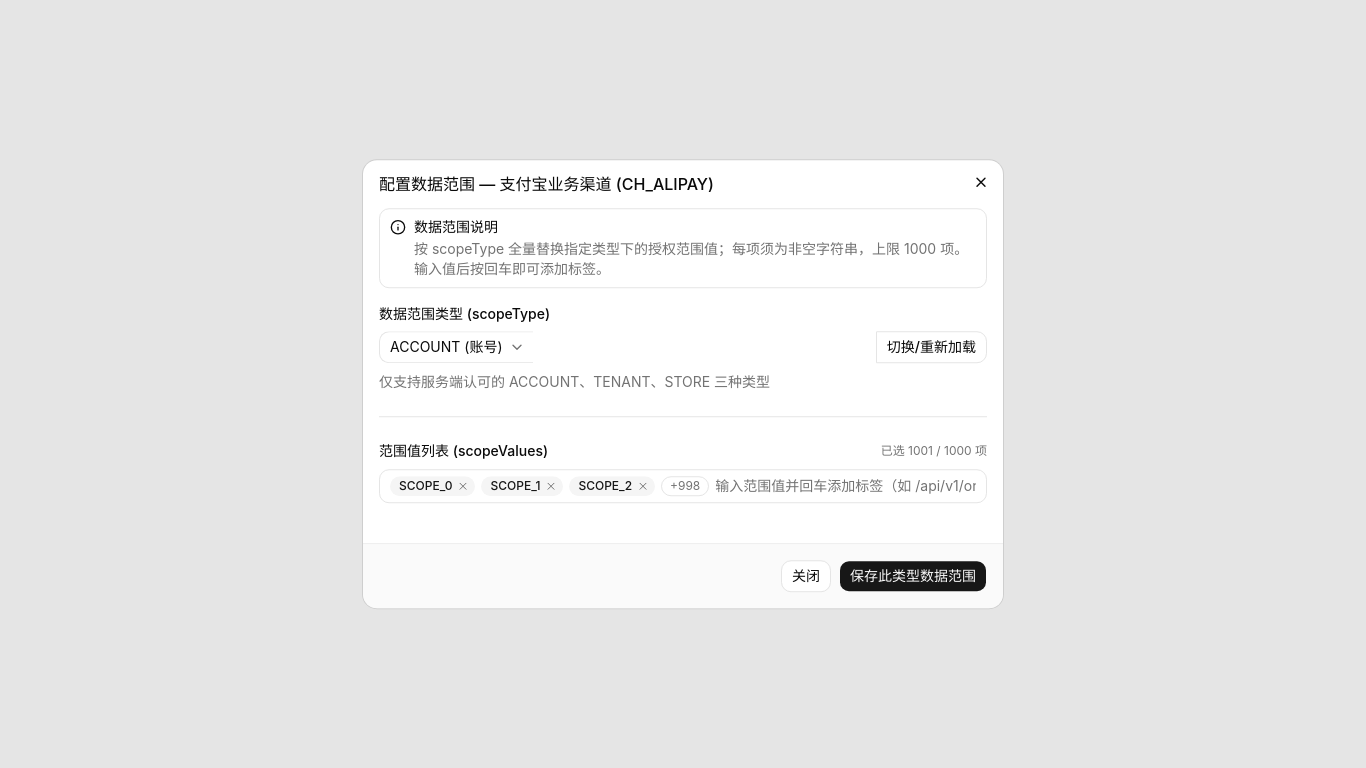
it: DataScopeModal (渠道凭证 数据范围配置弹窗) › 表单校验拦截 - 数据范围项数超过 1000 项时拦截请求并提示
Check: the text "已选 1001 / 1000 项" is shown, box [881,443,987,459]
Click the button "保存此类型数据范围" at point(913, 576), box [839,560,987,592]
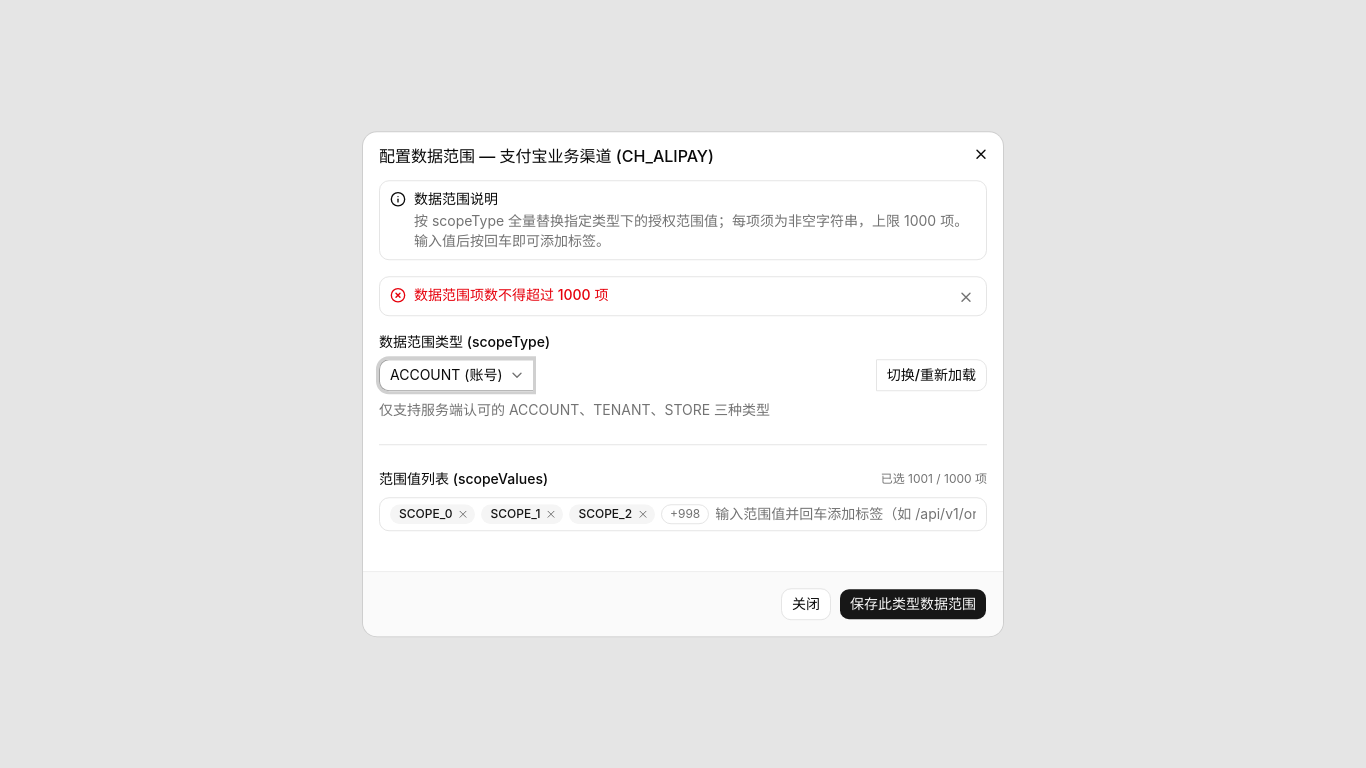
Check: the text "数据范围项数不得超过 1000 项" is shown, box [414,286,608,303]
